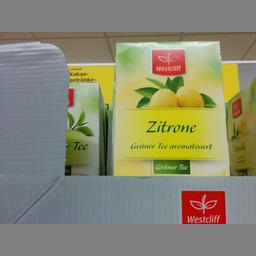tea: (108, 39, 230, 175)
